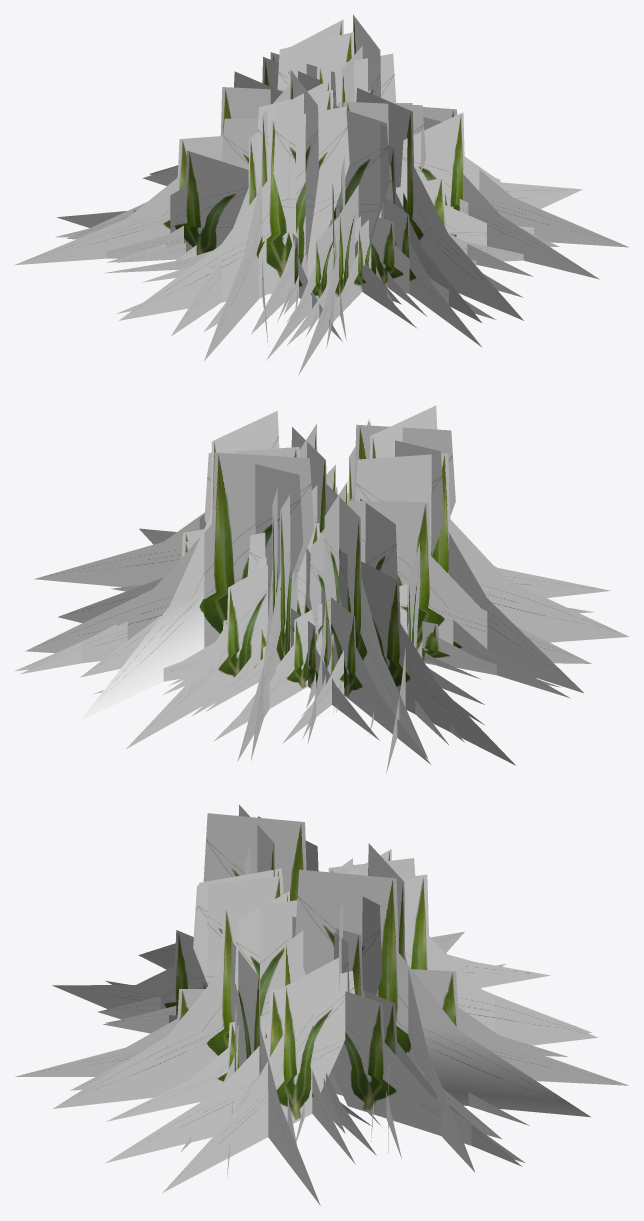
Rendered from Grass.fbx.
The picture shows the model from 3 angles, top to bottom: view 1: azimuth 30°, elevation 25°; view 2: azimuth 150°, elevation 25°; view 3: azimuth 270°, elevation 25°; orthographic projection. The views are drawn at different scales.
Visible parts, largest first — view 1: grass_0; view 2: grass_0; view 3: grass_0.
Boxes of the visible parts, box(x1,y1,x2,y2) form: grass_0: box(14, 14, 629, 375); grass_0: box(14, 405, 629, 774); grass_0: box(15, 804, 628, 1205).
Bounding box in the file's own units: 78.32 × 29.41 × 74.16.
1 material, 1 textured.
